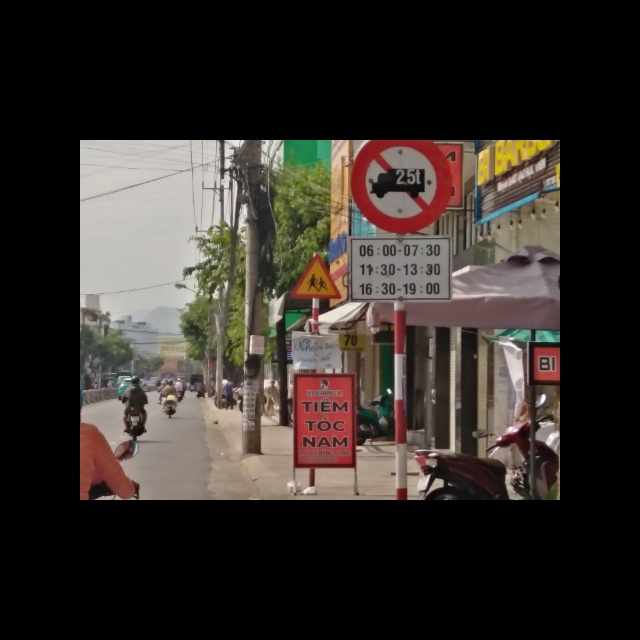Cấm xe tải: (348, 140, 455, 236)
Trẻ em ngang qua: (289, 252, 342, 299)
